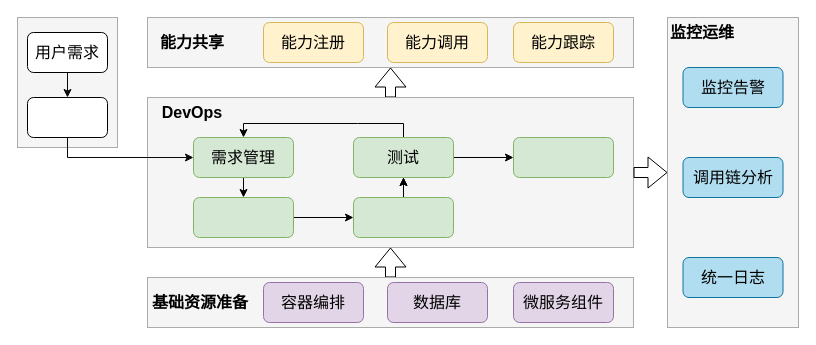
The diagram is 816 pixels wide and 345 high, and some of its shapes have lost their labels. Here are the shapes that lost their labels. From the top down, the box of each, then its label:
(26, 96, 108, 138): 需求分析
(512, 136, 614, 178): 交付
(192, 196, 294, 238): 研发
(352, 196, 454, 238): CI/CD
